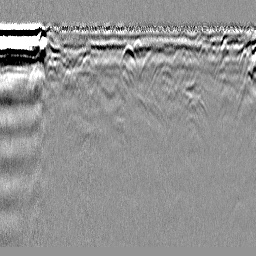cavity: (119, 44, 137, 64)
